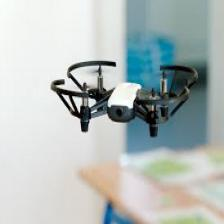drone: (50, 60, 199, 138)
